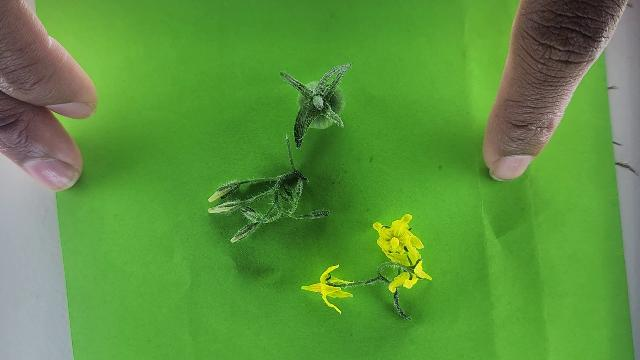Anthesis: (374, 214, 434, 289), (300, 264, 354, 315)
Flower Bud: (230, 221, 261, 243), (209, 200, 241, 213), (292, 209, 329, 220)
Fruit Maturation: (299, 83, 345, 128)
